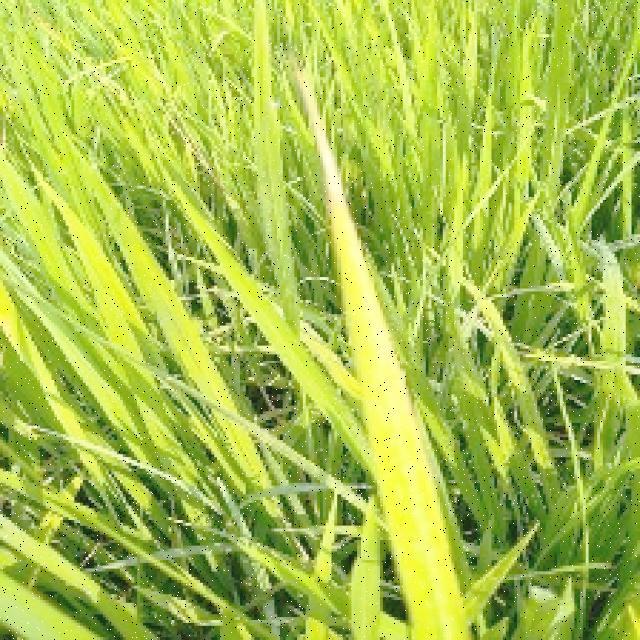unhealth: (297, 69, 472, 640)
